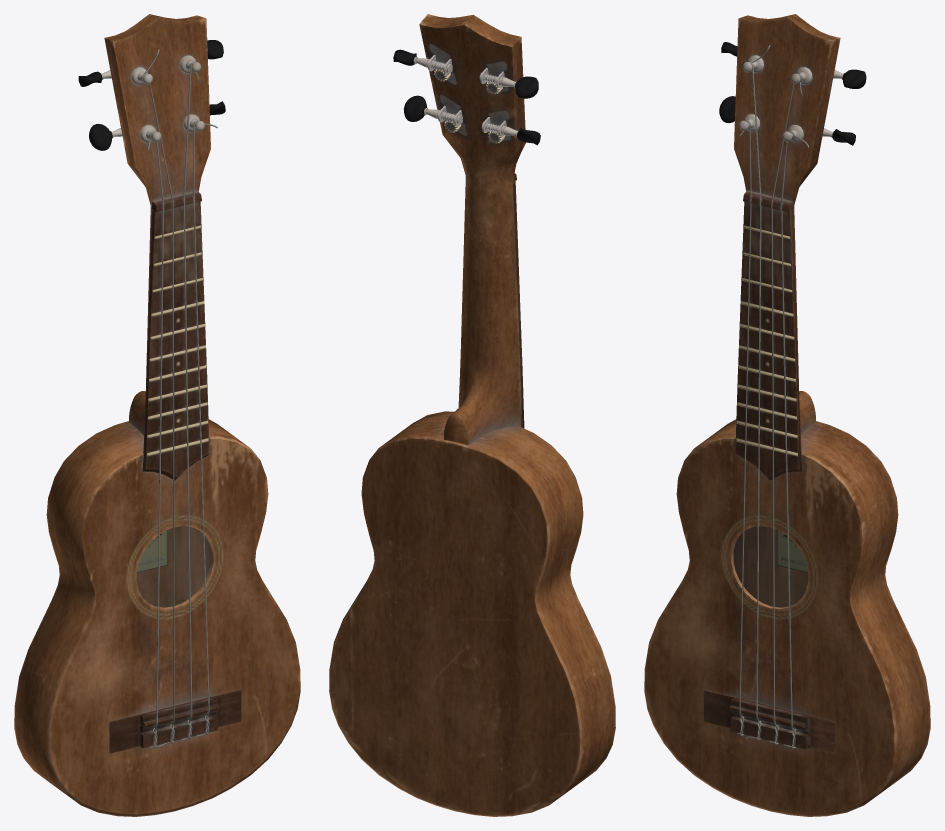
The model's file is Ukulele_01.glb.
3 renders of one model, left to right at view 1: azimuth 30°, elevation 25°; view 2: azimuth 150°, elevation 25°; view 3: azimuth 330°, elevation 25°, orthographic.
Visible parts, largest first — view 1: Ukulele_01; view 2: Ukulele_01; view 3: Ukulele_01.
Boxes of the visible parts, box(x1,y1,x2,y2) form: Ukulele_01: box(14, 14, 300, 816); Ukulele_01: box(329, 14, 615, 816); Ukulele_01: box(644, 14, 930, 816).
Bounding box in the file's own units: 0.1779 × 0.527 × 0.0508.
1 material, 1 textured.
